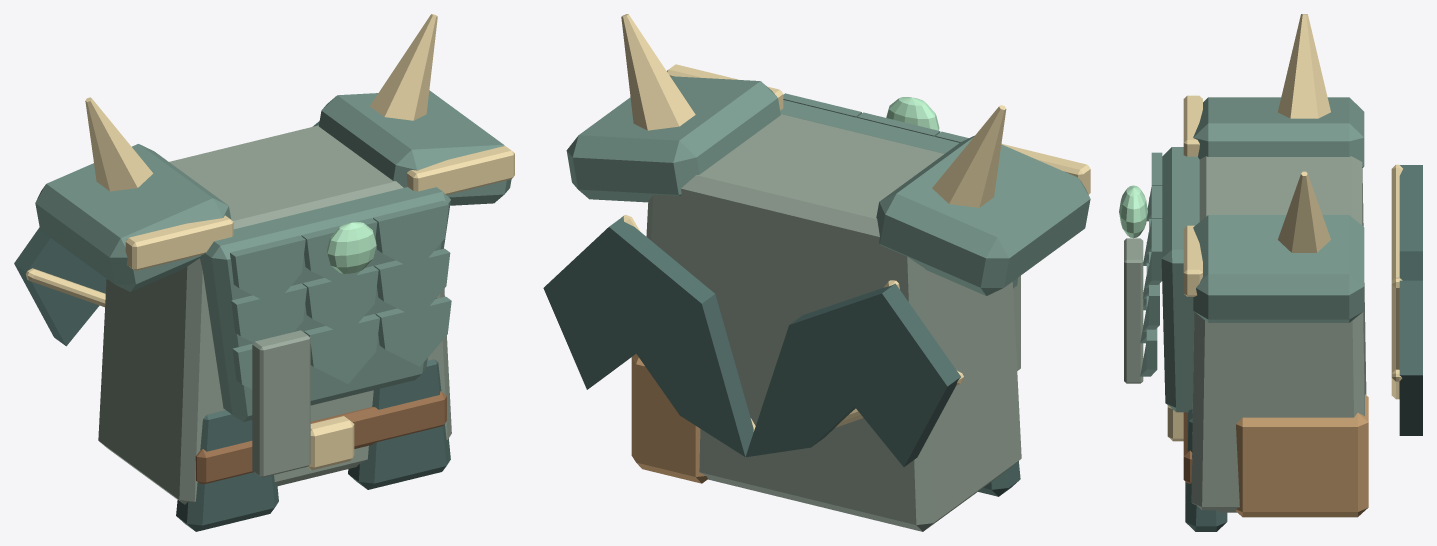
Rendered from Dragon_Peasant_Torso.fbx.
3 renders of one model, left to right at view 1: azimuth 30°, elevation 25°; view 2: azimuth 150°, elevation 25°; view 3: azimuth 270°, elevation 25°, orthographic. The views are drawn at different scales.
Visible parts, largest first — view 1: Dragon_Peasant_Torso; view 2: Dragon_Peasant_Torso; view 3: Dragon_Peasant_Torso.
Part boxes in pixels (x1,y1,x2,y2): Dragon_Peasant_Torso: (14, 14, 514, 531); Dragon_Peasant_Torso: (543, 14, 1090, 531); Dragon_Peasant_Torso: (1119, 14, 1422, 531).
Size of the model in its own units: 104 by 98.7 by 71.16.
